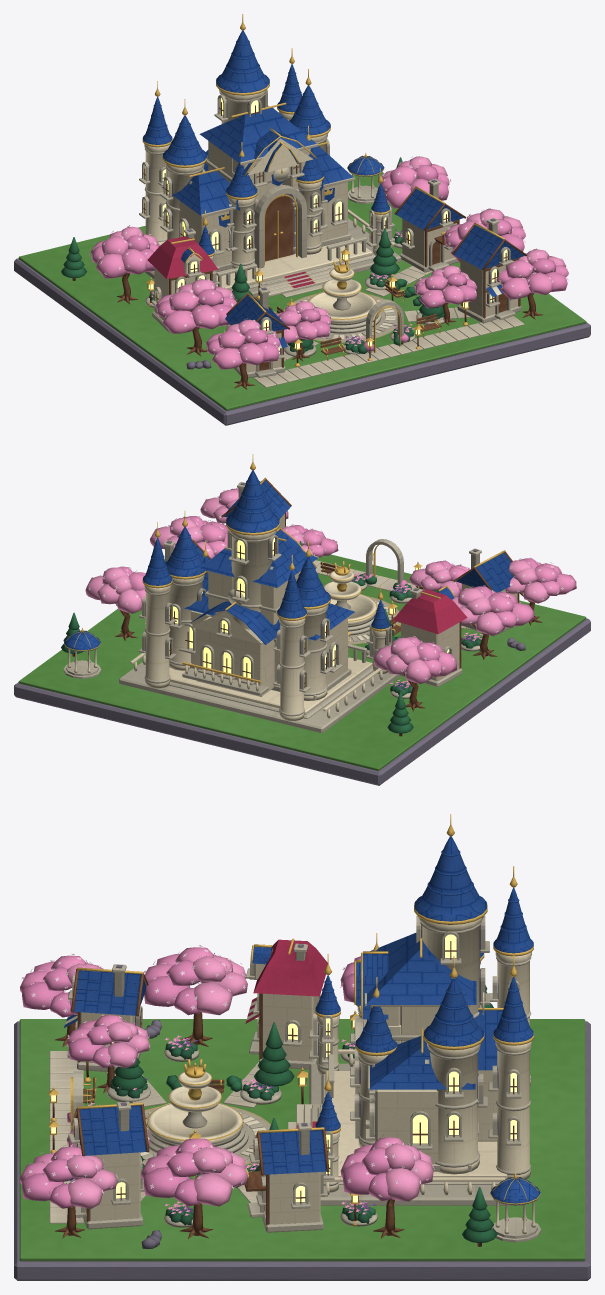
File: central-royal-district.glb
3 views of the same model, one above another, from view 1: azimuth 30°, elevation 25°; view 2: azimuth 150°, elevation 25°; view 3: azimuth 270°, elevation 25° (orthographic). The views are drawn at different scales.
Parts seen in each view (by area): view 1: city_level_1, city_level_2, city_level_3; view 2: city_level_1, city_level_2, city_level_3; view 3: city_level_1, city_level_2, city_level_3.
Part boxes in pixels (x1,y1,x2,y2): city_level_1: [14, 14, 590, 425]; city_level_2: [139, 48, 302, 241]; city_level_3: [199, 167, 394, 284]; city_level_1: [14, 454, 590, 785]; city_level_2: [139, 522, 310, 720]; city_level_3: [202, 541, 391, 673]; city_level_1: [14, 814, 590, 1280]; city_level_2: [488, 866, 533, 1179]; city_level_3: [309, 954, 340, 1192].
Bounding box in the file's own units: 15.3 × 10.02 × 15.3.
Materials: 15 (15 with a texture image).
